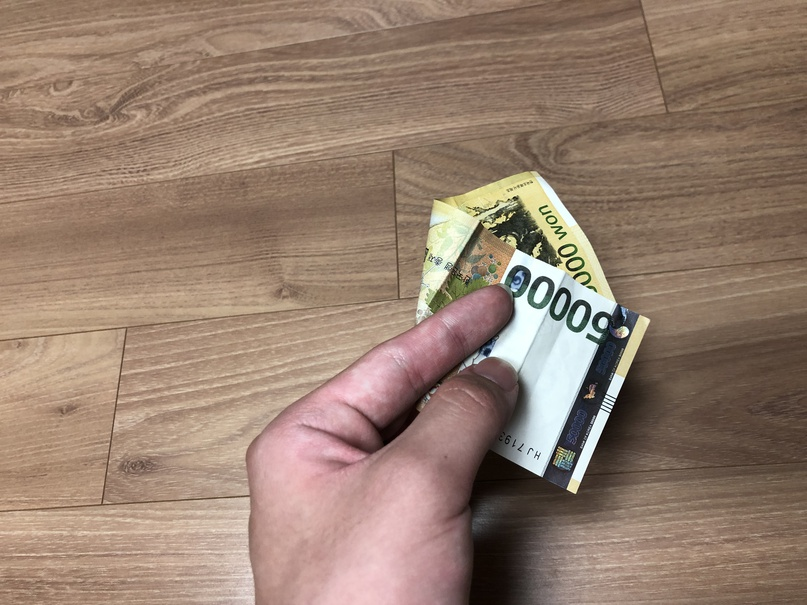50000won: (415, 170, 651, 497)
